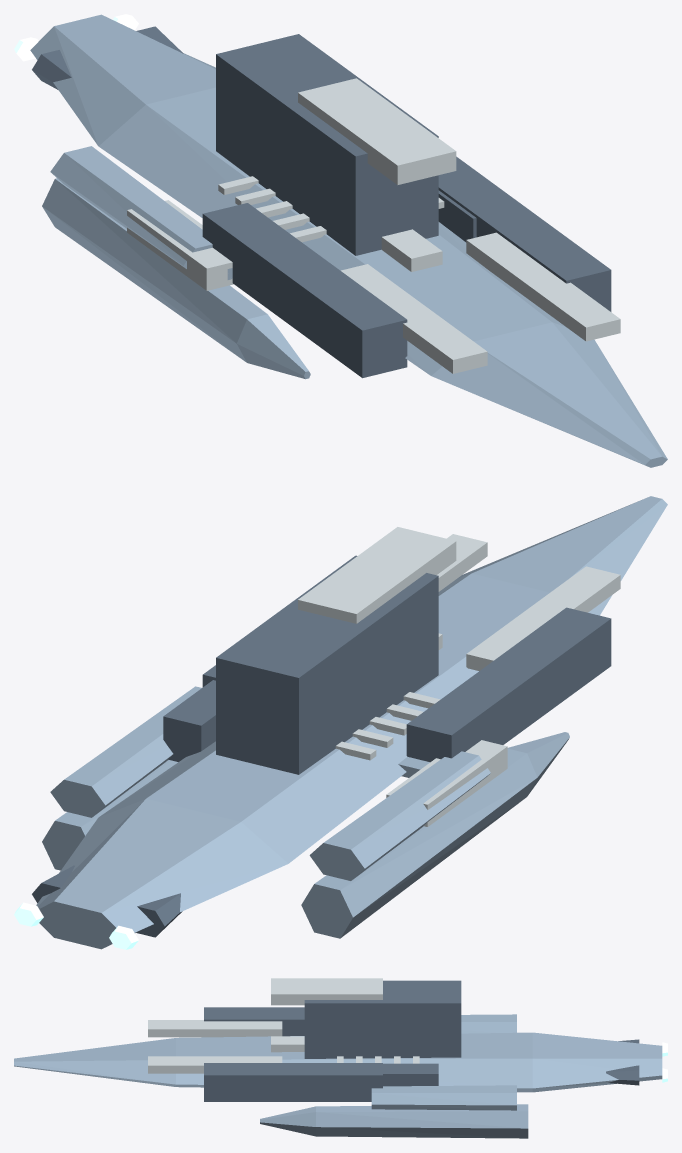
3 views of the same model, one above another, from view 1: azimuth 30°, elevation 25°; view 2: azimuth 150°, elevation 25°; view 3: azimuth 270°, elevation 25° (orthographic). The views are drawn at different scales.
Size of the model in its own units: 4.19 by 2.57 by 13.45.
